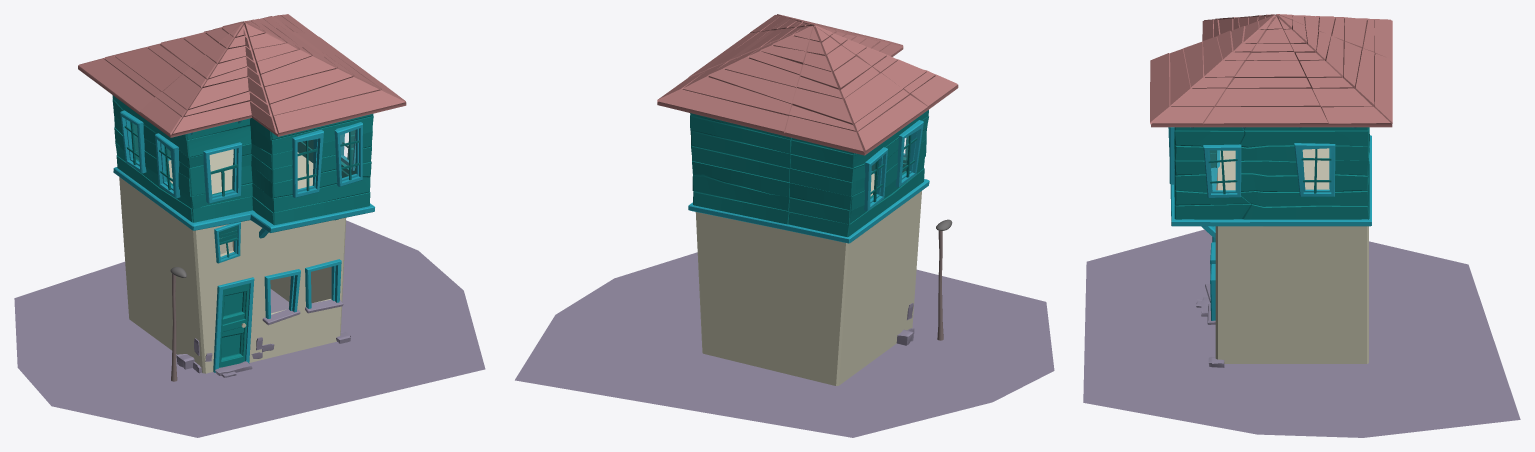
The picture shows the model from 3 angles, left to right: view 1: azimuth 30°, elevation 25°; view 2: azimuth 150°, elevation 25°; view 3: azimuth 270°, elevation 25°; orthographic projection.
Parts seen in each view (by area): view 1: pPlane1; view 2: pPlane1; view 3: pPlane1.
Part boxes in pixels (x1,y1,x2,y2): pPlane1: (14, 14, 485, 437); pPlane1: (515, 14, 1054, 437); pPlane1: (1083, 14, 1520, 437).
Size of the model in its own units: 93.33 by 65.06 by 80.5.
